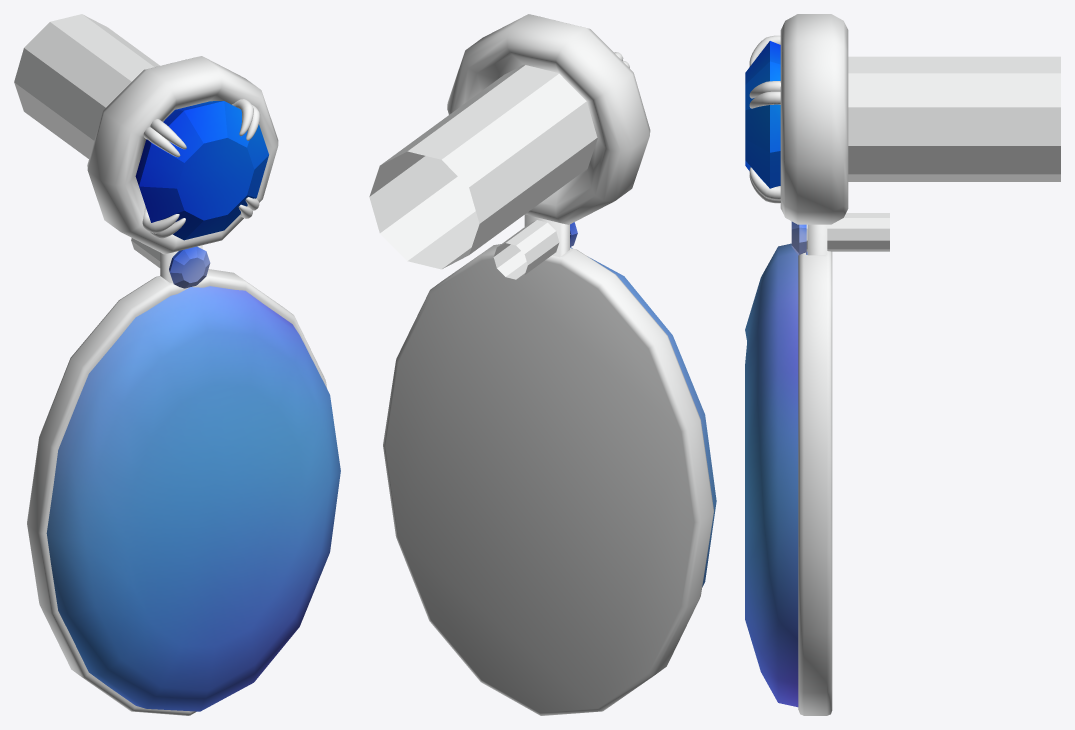
Rendered from Earring.gltf.
The picture shows the model from 3 angles, left to right: view 1: azimuth 30°, elevation 25°; view 2: azimuth 150°, elevation 25°; view 3: azimuth 270°, elevation 25°; orthographic projection. The views are drawn at different scales.
Visible parts, largest first — view 1: Earring; view 2: Earring; view 3: Earring.
Part boxes in pixels (x1=…): Earring: x1=14, y1=14, x2=340, y2=715; Earring: x1=369, y1=14, x2=716, y2=715; Earring: x1=745, y1=14, x2=1060, y2=715.
Bounding box in the file's own units: 0.1221 × 0.2508 × 0.1059.
Materials: 2 (2 with a texture image).
